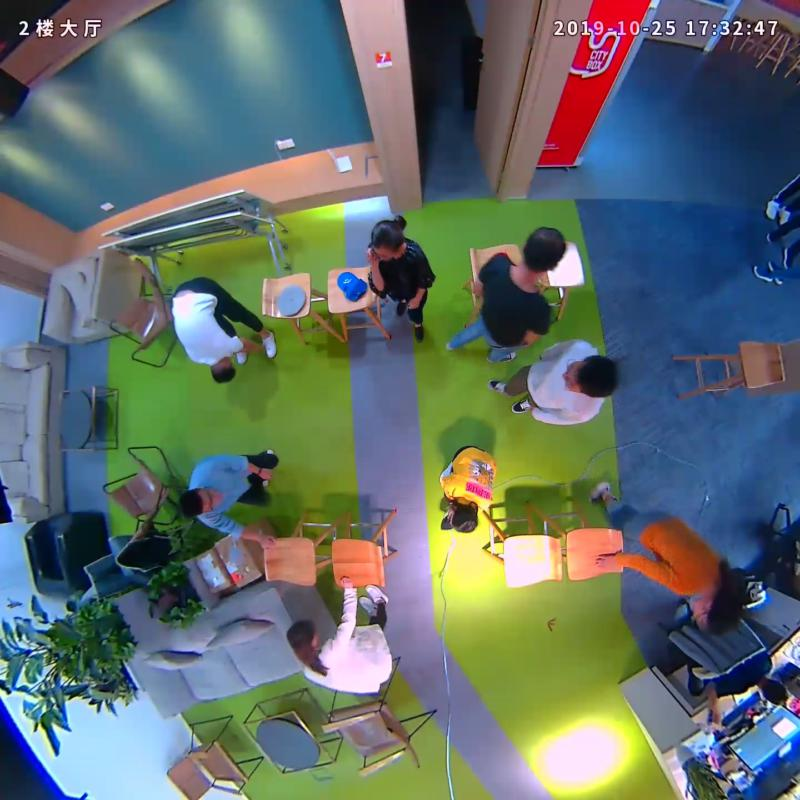head: (559, 349, 627, 401), (510, 224, 570, 277), (682, 588, 744, 639), (364, 214, 414, 267), (276, 614, 325, 659), (440, 500, 486, 542), (174, 485, 219, 520), (200, 354, 242, 387)
